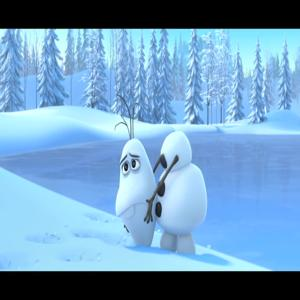olaf: (111, 92, 211, 254)
